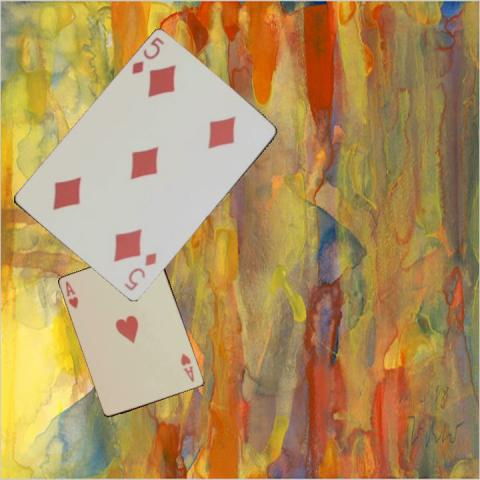5d: (121, 249, 158, 293), (129, 34, 166, 77)
Ah: (178, 351, 196, 383), (63, 278, 80, 310)
